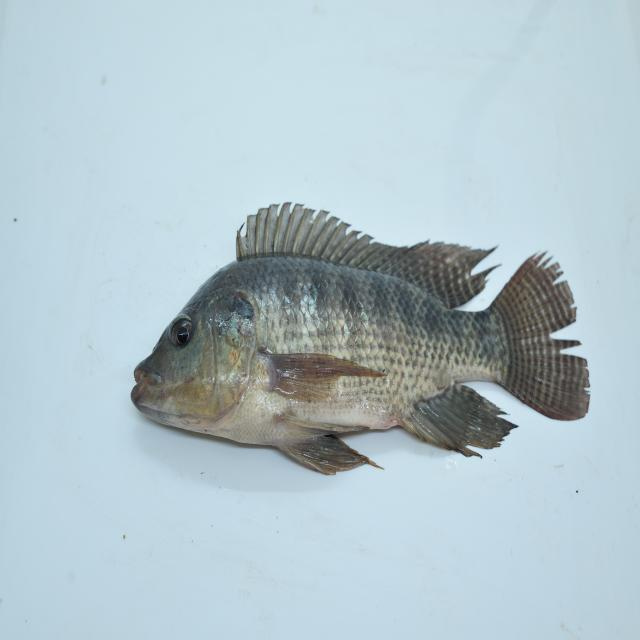Healthy Fish: (129, 201, 597, 473)
